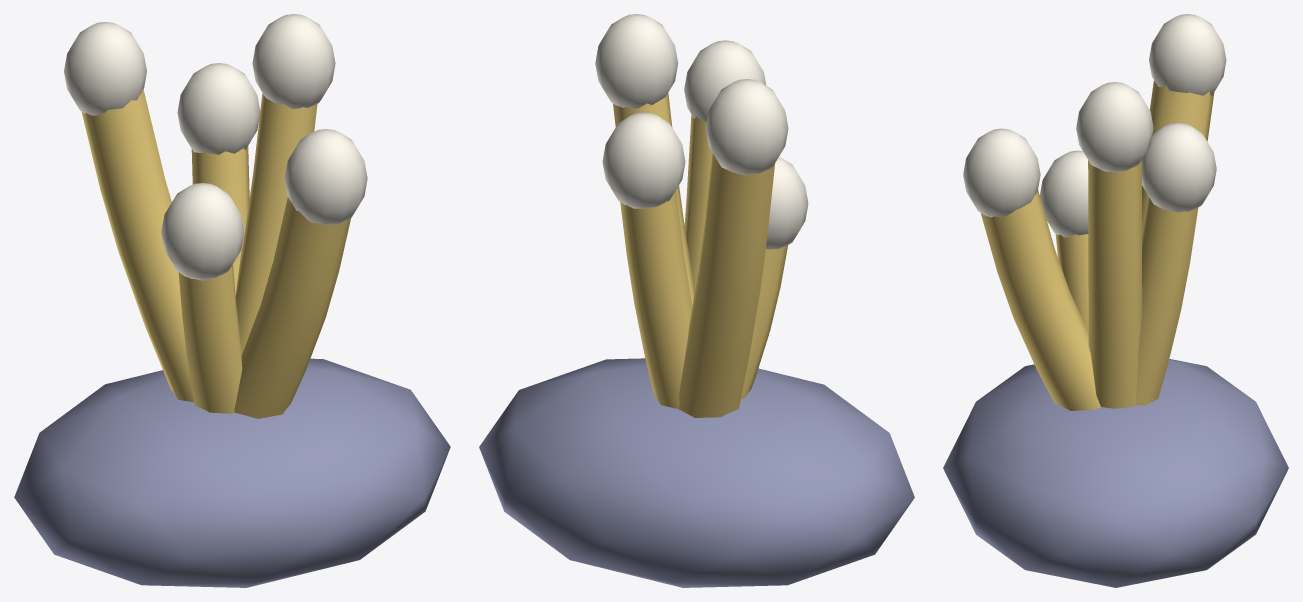
The model's file is coral4.glb.
3 renders of one model, left to right at view 1: azimuth 30°, elevation 25°; view 2: azimuth 150°, elevation 25°; view 3: azimuth 270°, elevation 25°, orthographic. The views are drawn at different scales.
Visible parts, largest first — view 1: RootStone.004, Branch_1.004, Branch_3.004, Branch_4.002, Branch_2.004, RoundedTip_2.004, RoundedTip_3.004, RoundedTip_4.002, RoundedTip_0.004, RoundedTip_1.004, Branch_0.004; view 2: RootStone.004, Branch_1.004, Branch_0.004, RoundedTip_0.004, RoundedTip_1.004, RoundedTip_4.002, RoundedTip_3.004, Branch_3.004, RoundedTip_2.004, Branch_2.004, Branch_4.002; view 3: RootStone.004, Branch_3.004, Branch_4.002, Branch_0.004, RoundedTip_4.002, RoundedTip_0.004, RoundedTip_3.004, RoundedTip_1.004, RoundedTip_2.004, Branch_1.004, Branch_2.004.
Boxes of the visible parts, <box> form: RootStone.004: <box>14,358,450,587</box>; Branch_1.004: <box>81,88,194,402</box>; Branch_3.004: <box>234,197,350,418</box>; Branch_4.002: <box>235,93,317,352</box>; Branch_2.004: <box>178,264,242,413</box>; RoundedTip_2.004: <box>161,183,244,280</box>; RoundedTip_3.004: <box>284,129,367,225</box>; RoundedTip_4.002: <box>252,14,335,108</box>; RoundedTip_0.004: <box>177,63,260,154</box>; RoundedTip_1.004: <box>64,22,146,115</box>; Branch_0.004: <box>191,146,249,294</box>; RootStone.004: <box>479,358,914,587</box>; Branch_1.004: <box>679,153,775,417</box>; Branch_0.004: <box>620,190,692,409</box>; RoundedTip_0.004: <box>602,112,685,208</box>; RoundedTip_1.004: <box>705,79,788,175</box>; RoundedTip_4.002: <box>595,14,678,108</box>; RoundedTip_3.004: <box>684,40,766,122</box>; Branch_3.004: <box>684,115,712,290</box>; RoundedTip_2.004: <box>766,156,808,249</box>; Branch_2.004: <box>741,245,787,399</box>; Branch_4.002: <box>613,93,694,304</box>; RootStone.004: <box>943,359,1288,587</box>; Branch_3.004: <box>981,190,1100,410</box>; Branch_4.002: <box>1088,160,1142,408</box>; Branch_0.004: <box>1135,195,1198,405</box>; RoundedTip_4.002: <box>1076,82,1153,171</box>; RoundedTip_0.004: <box>1141,122,1216,212</box>; RoundedTip_3.004: <box>963,128,1040,217</box>; RoundedTip_1.004: <box>1149,14,1226,96</box>; RoundedTip_2.004: <box>1040,150,1088,237</box>; Branch_1.004: <box>1142,80,1214,232</box>; Branch_2.004: <box>1055,234,1088,332</box>.
Size of the model in its own units: 1.37 by 1.82 by 1.16.
